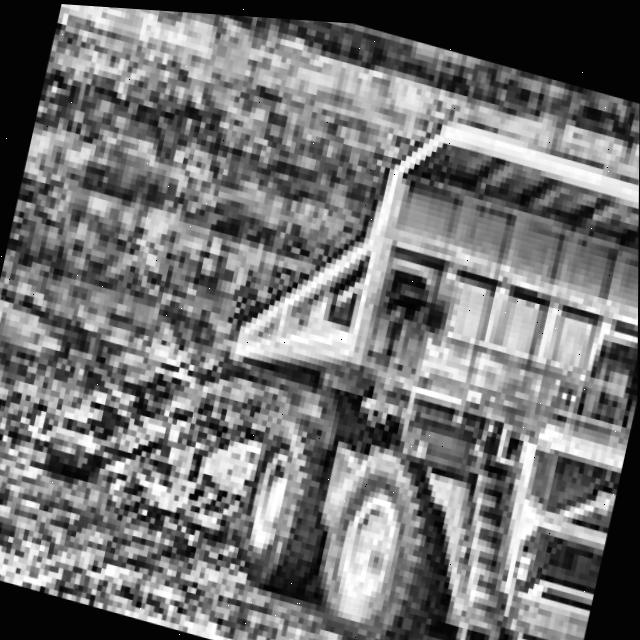dump_truck: (153, 44, 640, 640)
